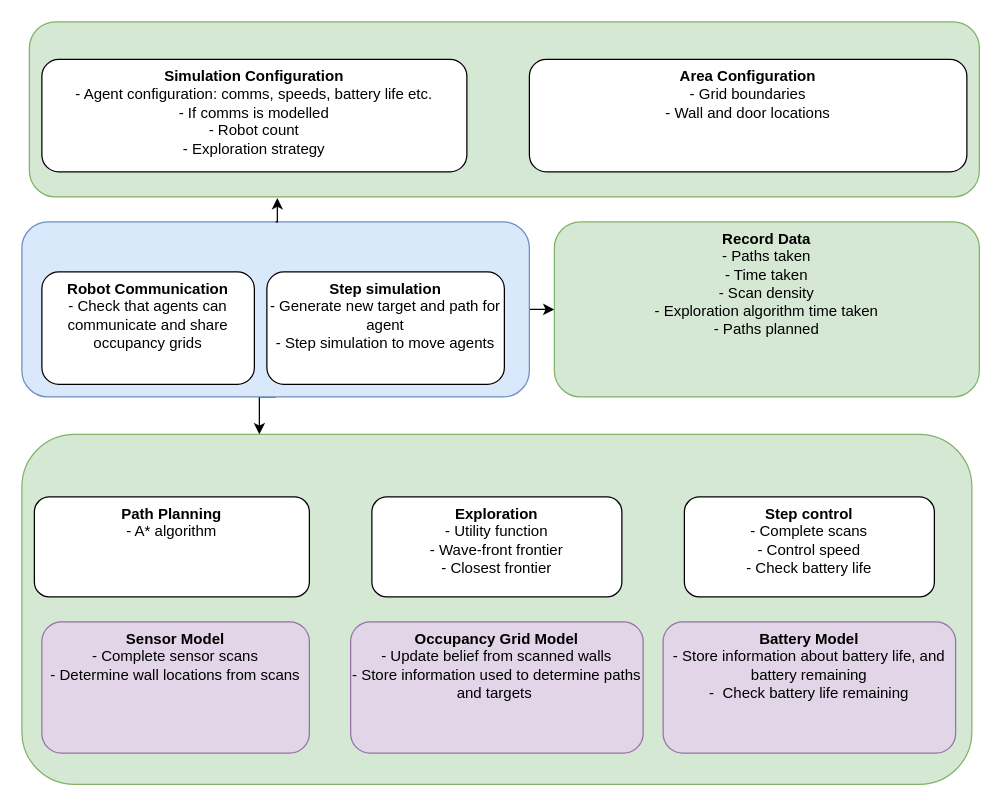
Some shapes in this 1001 by 806 pixel diagram are drawn without their labels. Here are the shapes that lost their labels. From the top down, the box of each, then its label:
(28, 21, 979, 197): Configuration Layer
(21, 221, 529, 397): Core Simulation Control
(21, 433, 972, 784): Agent Control Layer - Agent model
